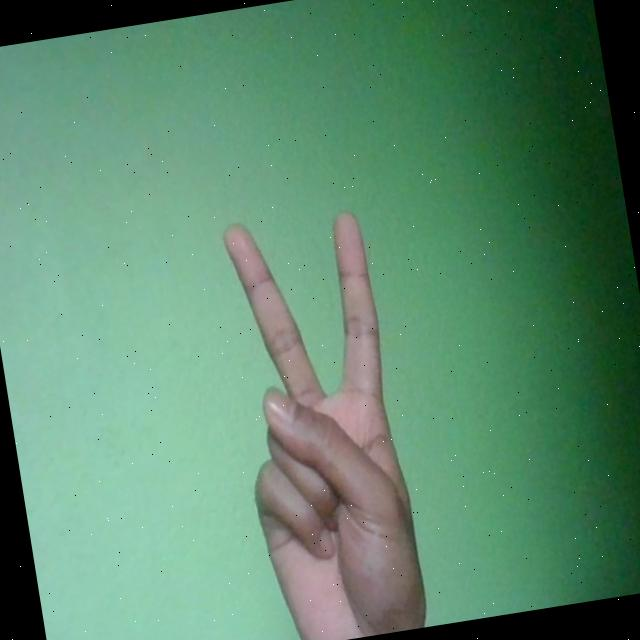Fist: (213, 204, 430, 640)
